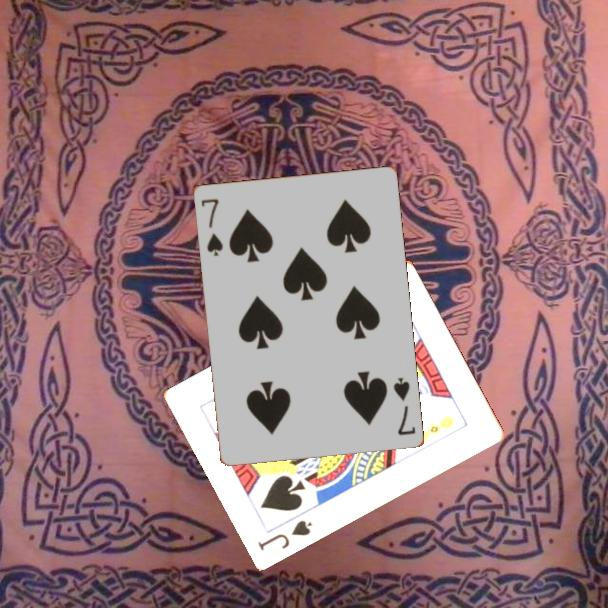s07: (197, 195, 226, 258), (390, 374, 418, 438)
s11: (254, 516, 315, 553)
